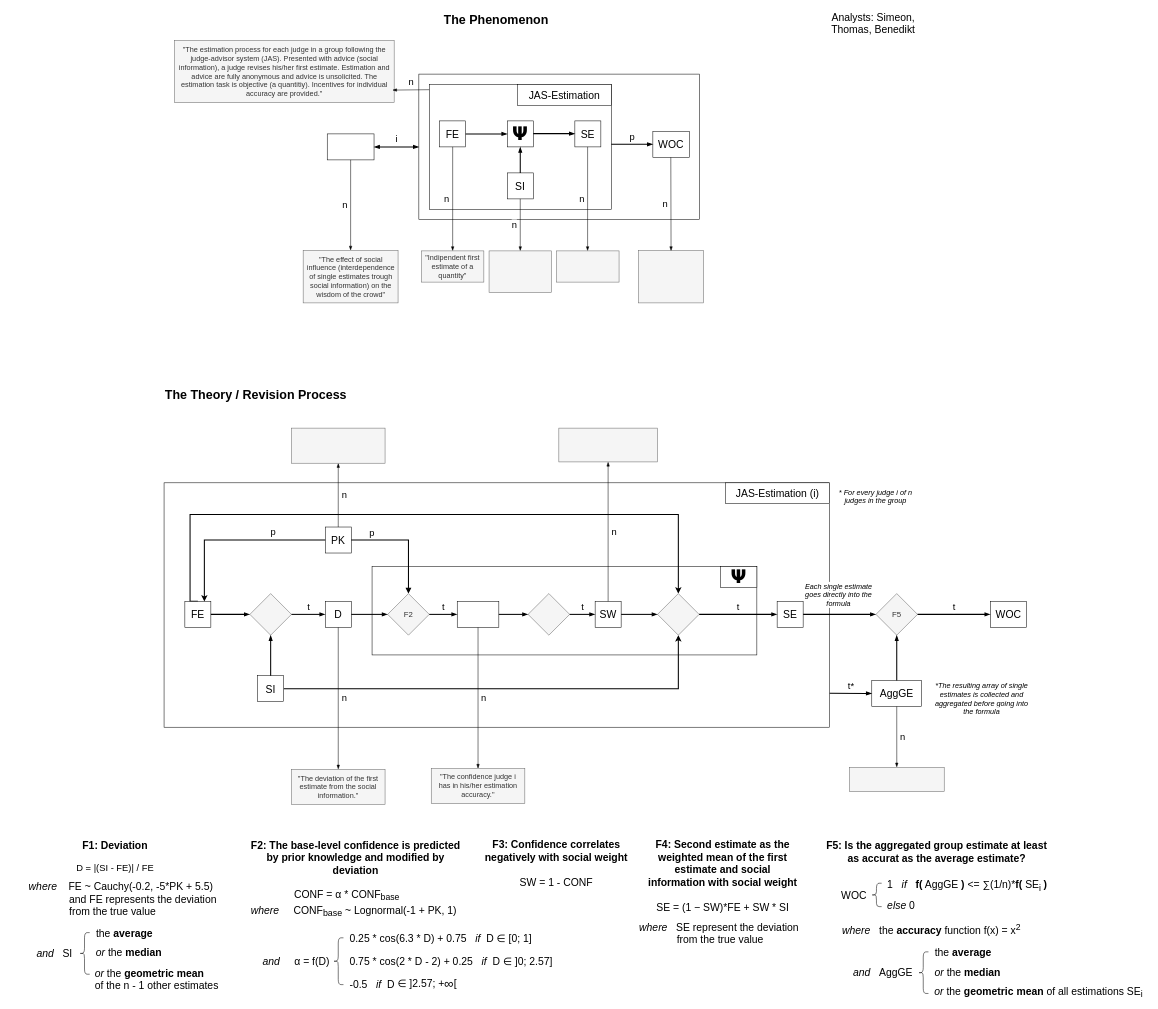
The diagram is 1158 pixels wide and 1009 high, and some of its shapes have lost their labels. The shapes that lost their labels are listed below. From the top down, each one's box as (x1, y1, x2, y2) in pixels, then its label:
(327, 133, 374, 160): SIWOC
(489, 250, 551, 292): "Received social information about the first estimation of the others"
(556, 250, 619, 282): "Revised second estimate of a quantity"
(638, 250, 704, 303): "Wisdom of the crowd: Aggregated estimate is better than most single estimates"
(291, 428, 385, 463): "Prior knowledge of judge i on the estimation task. "
(558, 428, 657, 462): "The social weight judge i puts on the received social information"
(249, 593, 291, 635): F1
(457, 601, 499, 627): CONF
(528, 593, 570, 635): F3
(657, 593, 699, 635): F4
(849, 767, 944, 792): "The aggregated group estimate."
